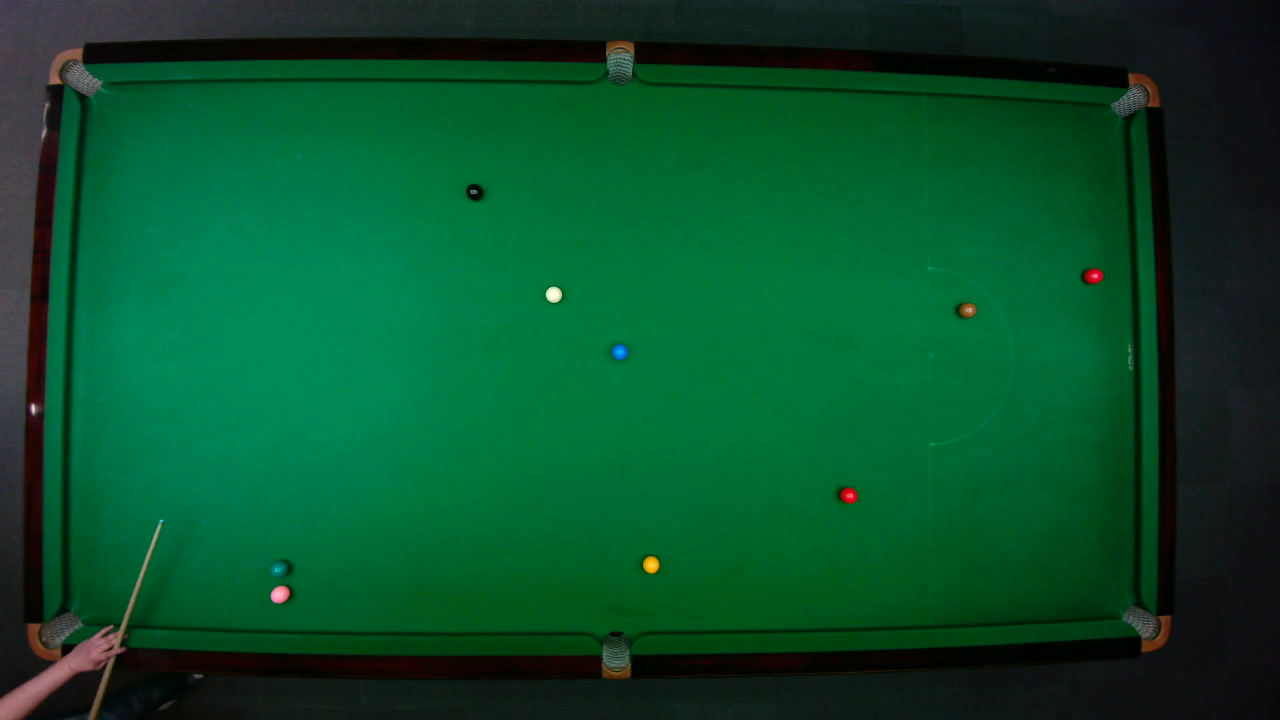bag: (26, 609, 84, 660), (47, 47, 103, 97), (1119, 603, 1171, 651), (1108, 72, 1160, 118), (601, 629, 630, 680), (605, 39, 633, 85)
black: (464, 183, 483, 200)
blue: (610, 342, 628, 360)
brown: (956, 301, 977, 317)
cue: (85, 519, 164, 720)
green: (268, 558, 289, 576)
pink: (269, 583, 290, 604)
red: (1082, 267, 1104, 284), (838, 486, 858, 504)
white: (543, 285, 562, 303)
yellow: (641, 554, 660, 574)
zone: (926, 266, 1014, 445)
